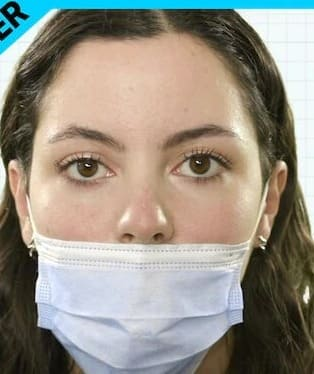with_incorrect_mask: (34, 44, 260, 369)
